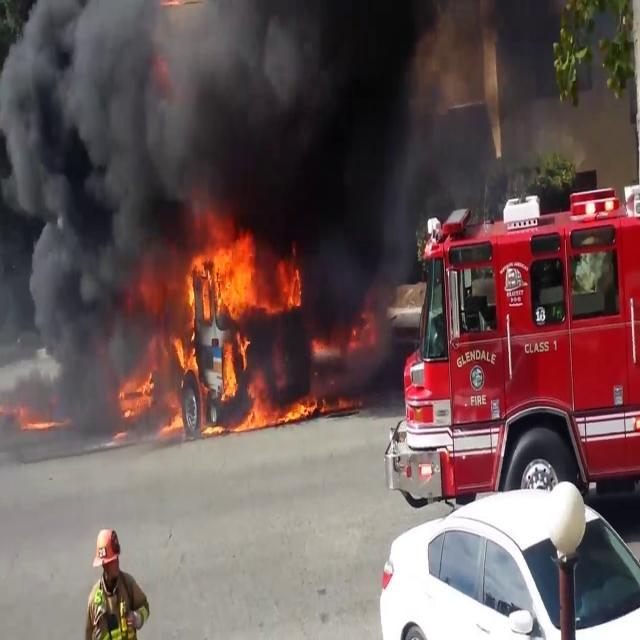Fire: (171, 222, 320, 434)
Smoke: (0, 0, 570, 243), (0, 1, 178, 396)
